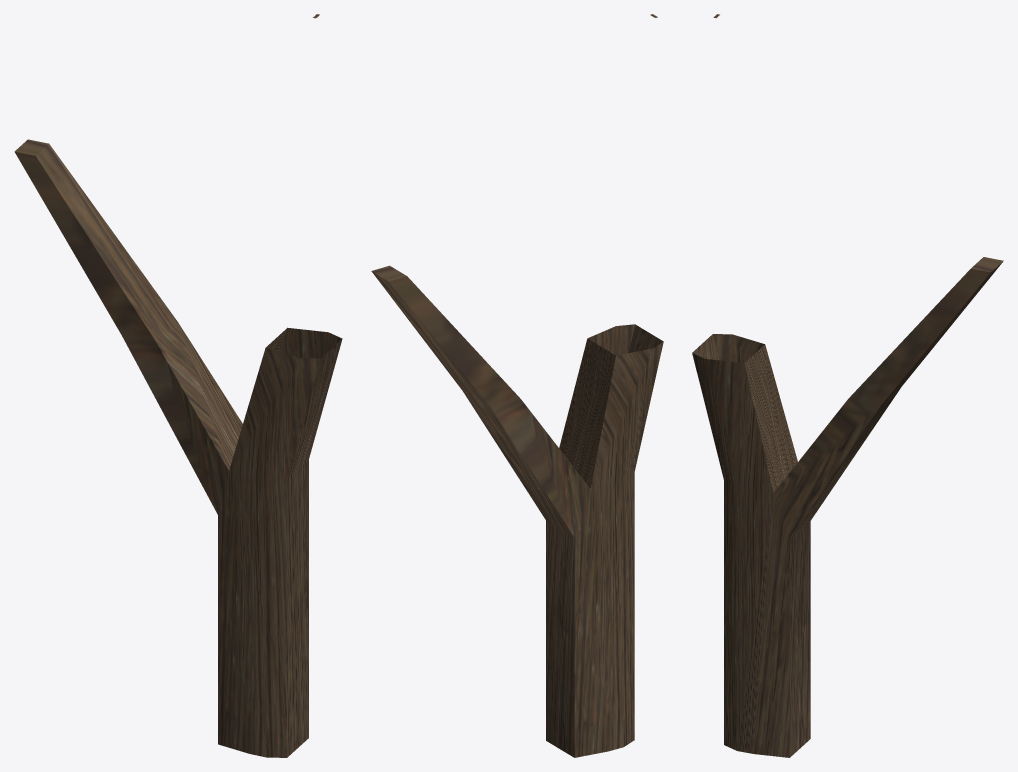
File: modelb.fbx
3 renders of one model, left to right at view 1: azimuth 90°, elevation 25°; view 2: azimuth 150°, elevation 25°; view 3: azimuth 270°, elevation 25°, orthographic. The views are drawn at different scales.
Visible parts, largest first — view 1: pCube21.005; view 2: pCube21.005; view 3: pCube21.005.
Boxes of the visible parts, box(x1,y1,x2,y2) form: pCube21.005: box(14, 14, 342, 757); pCube21.005: box(371, 14, 663, 757); pCube21.005: box(692, 14, 1003, 757).
Bounding box in the file's own units: 0.3679 × 1.65 × 0.661.
